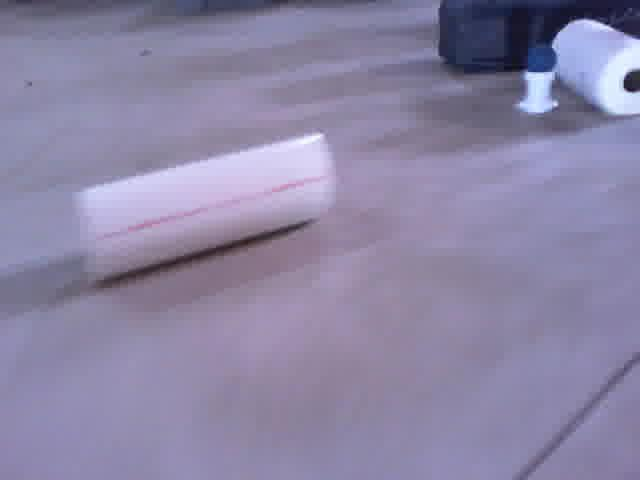coral: (77, 133, 334, 281)
